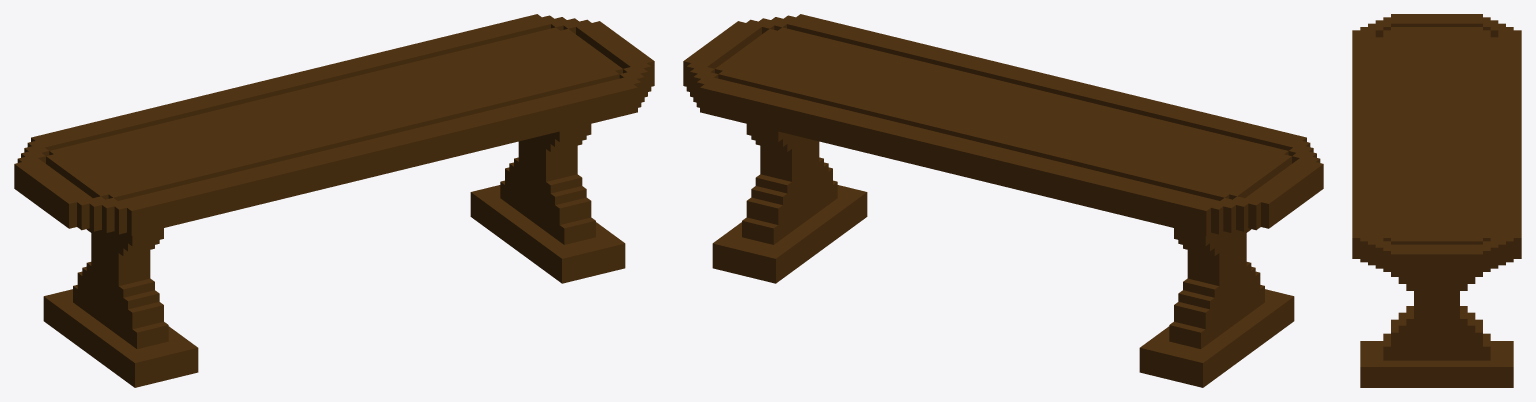
Rendered from Korean_item_04.FBX.
The picture shows the model from 3 angles, left to right: view 1: azimuth 30°, elevation 25°; view 2: azimuth 150°, elevation 25°; view 3: azimuth 270°, elevation 25°; orthographic projection. The views are drawn at different scales.
Parts seen in each view (by area): view 1: Voxel_Korean_traditional village-11; view 2: Voxel_Korean_traditional village-11; view 3: Voxel_Korean_traditional village-11.
Part boxes in pixels (x1,y1,x2,y2): Voxel_Korean_traditional village-11: (14, 14, 654, 387); Voxel_Korean_traditional village-11: (683, 14, 1323, 387); Voxel_Korean_traditional village-11: (1352, 14, 1521, 387).
Bounding box in the file's own units: 73.98 × 22 × 22.
1 material, 1 textured.
